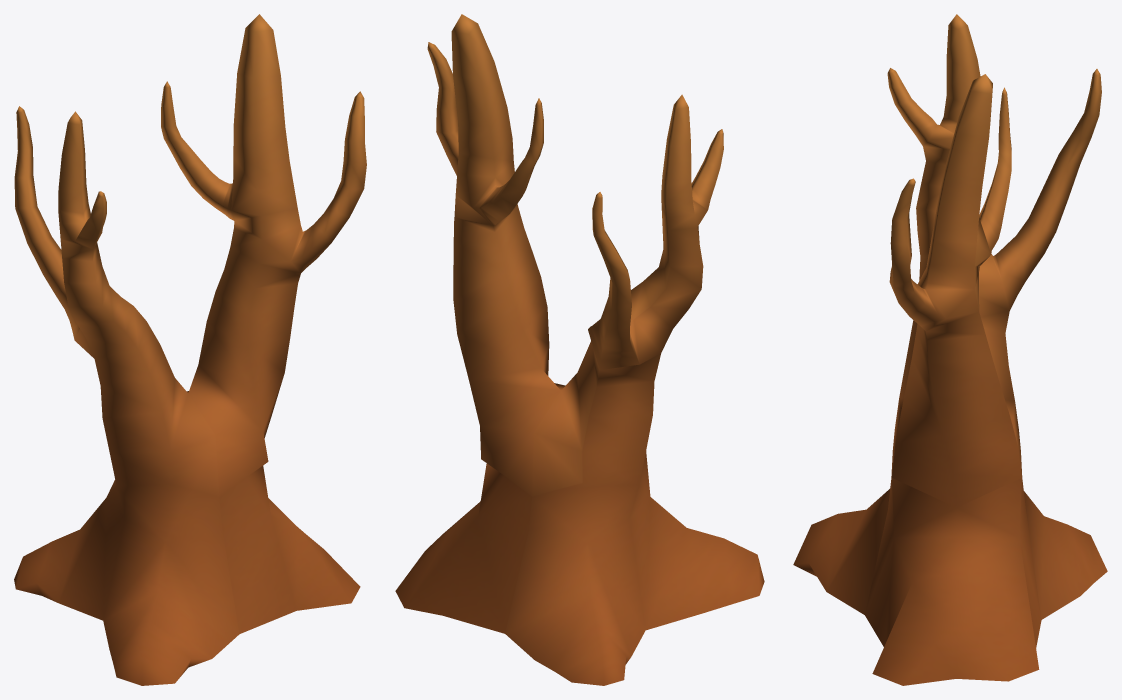
Rendered from ArabianTree_S_03.fbx.
3 renders of one model, left to right at view 1: azimuth 30°, elevation 25°; view 2: azimuth 150°, elevation 25°; view 3: azimuth 270°, elevation 25°, orthographic. The views are drawn at different scales.
Visible parts, largest first — view 1: ArabianTree_S_03; view 2: ArabianTree_S_03; view 3: ArabianTree_S_03.
Part boxes in pixels (x1,y1,x2,y2): ArabianTree_S_03: [14, 14, 366, 685]; ArabianTree_S_03: [395, 14, 764, 685]; ArabianTree_S_03: [793, 14, 1107, 685].
Bounding box in the file's own units: 251 × 475 × 233.
